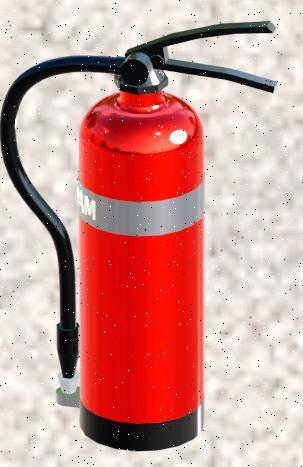Fire Extinguisher: (2, 20, 303, 459)
